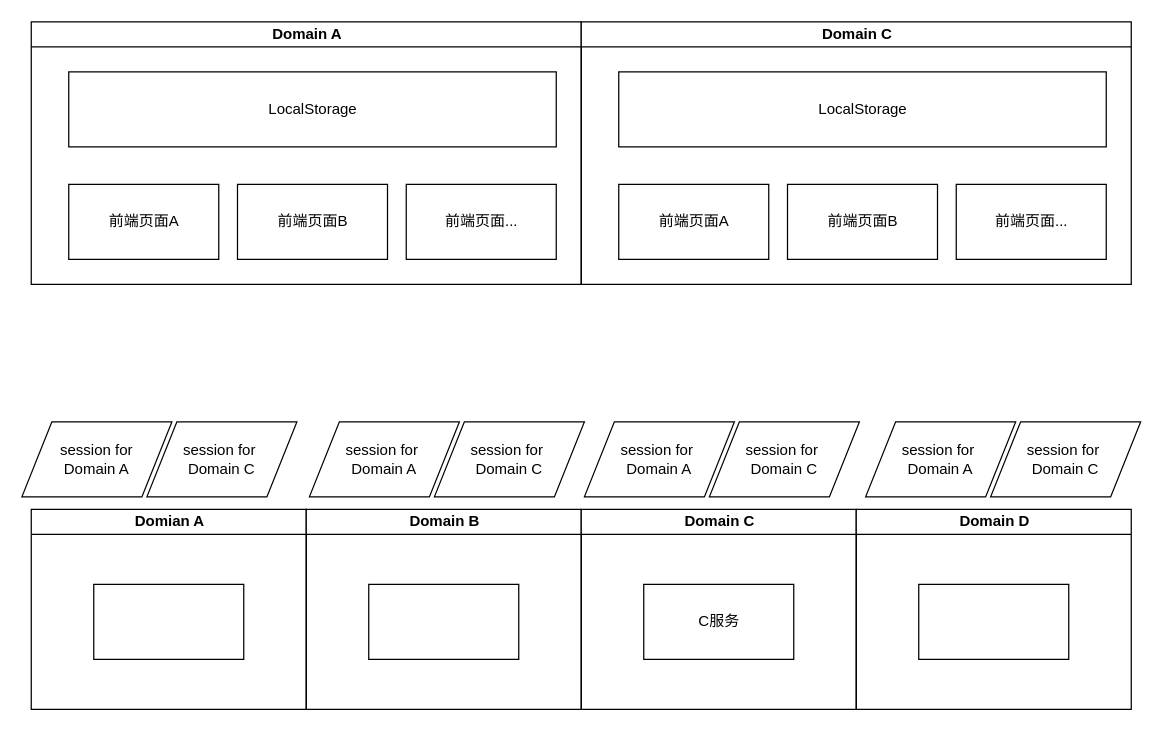
Some shapes in this 1163 by 731 pixel diagram are drawn without their labels. The centre of each missing label's shape, as x and y in pixels:
"A服务" belongs at point (168, 621).
"B服务" belongs at point (443, 621).
"D服务" belongs at point (993, 621).
